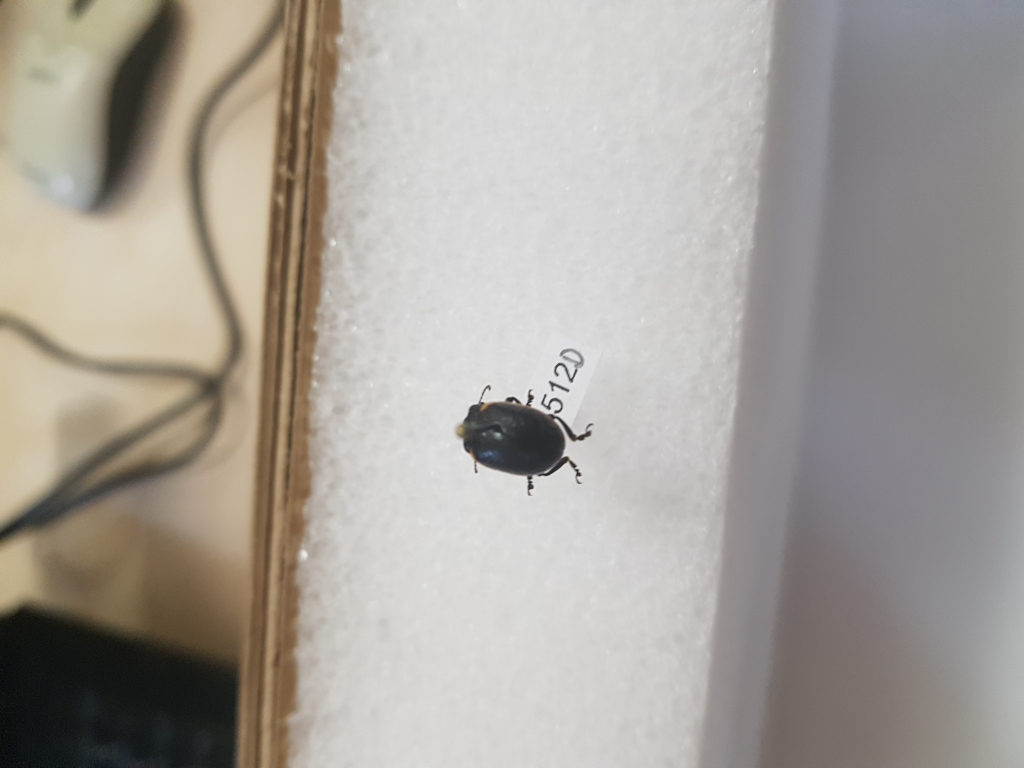Chrysolina_gypsophila: (456, 381, 596, 497)
